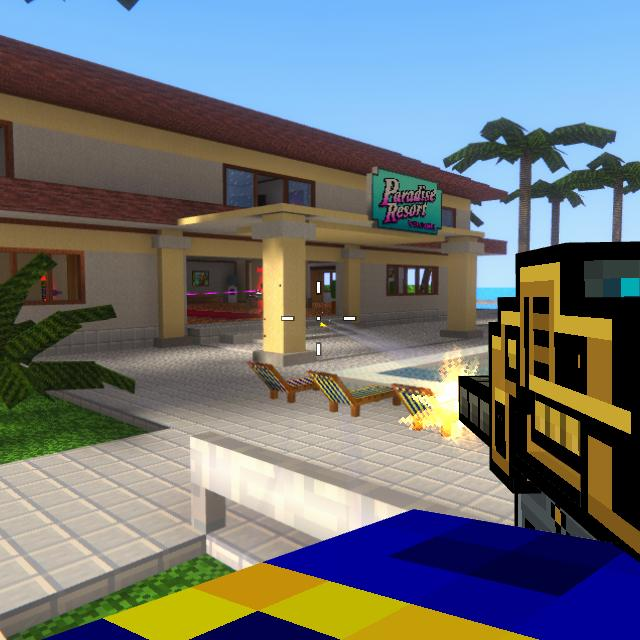Enemy: (41, 279, 47, 299)
